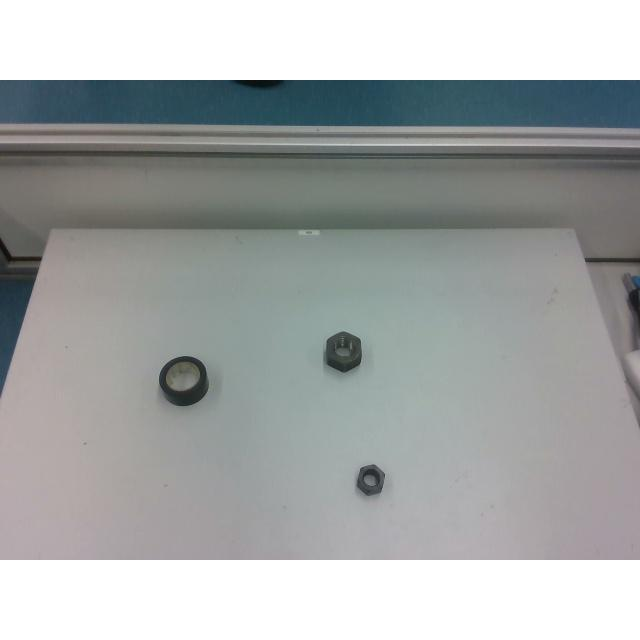M20: (356, 464, 384, 494)
M30: (324, 330, 360, 370)
